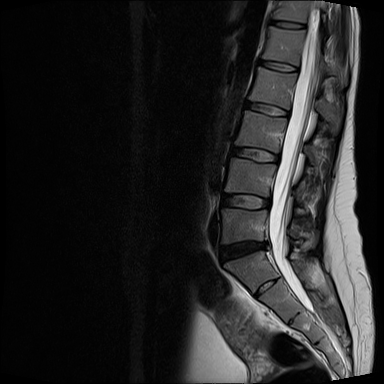Lumbar Disc Bulge (LDB): (212, 229, 278, 268)
Normal IVD: (215, 187, 274, 215), (238, 93, 293, 123), (230, 140, 283, 167), (251, 53, 302, 78), (261, 13, 310, 34)
Spinal Stenosis (SS): (252, 231, 278, 263)
